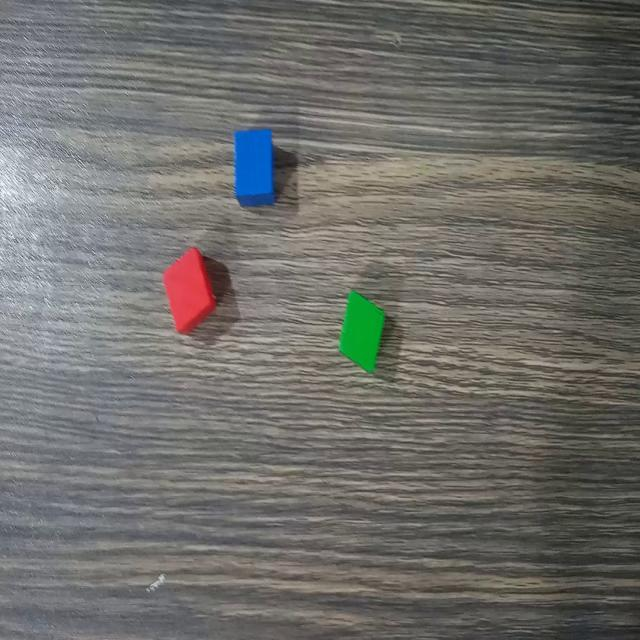cube: (161, 244, 220, 337), (336, 286, 388, 376), (231, 124, 278, 207)
